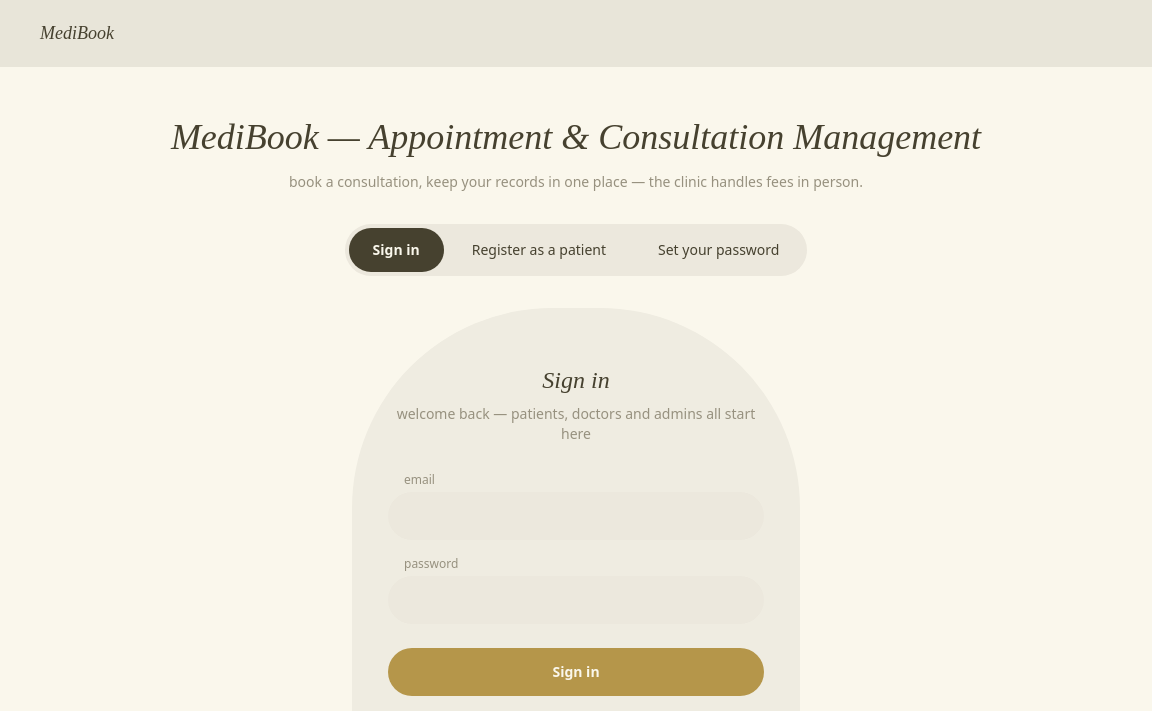
SignIn › [AC-003] client-side validation blocks an empty register submission
Click the tab "Register as a patient". click: (539, 250)
box: [448, 228, 630, 272]
(page scrolled)
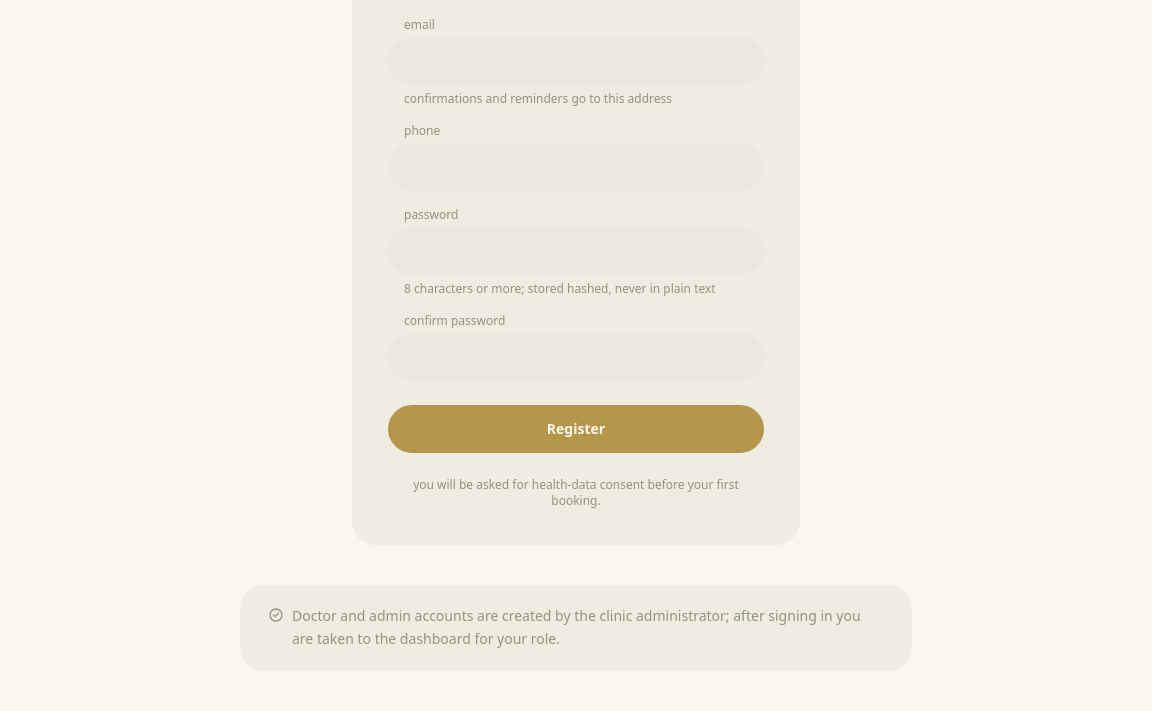
Click the button "Register". click: (576, 429)
box: [388, 405, 764, 453]
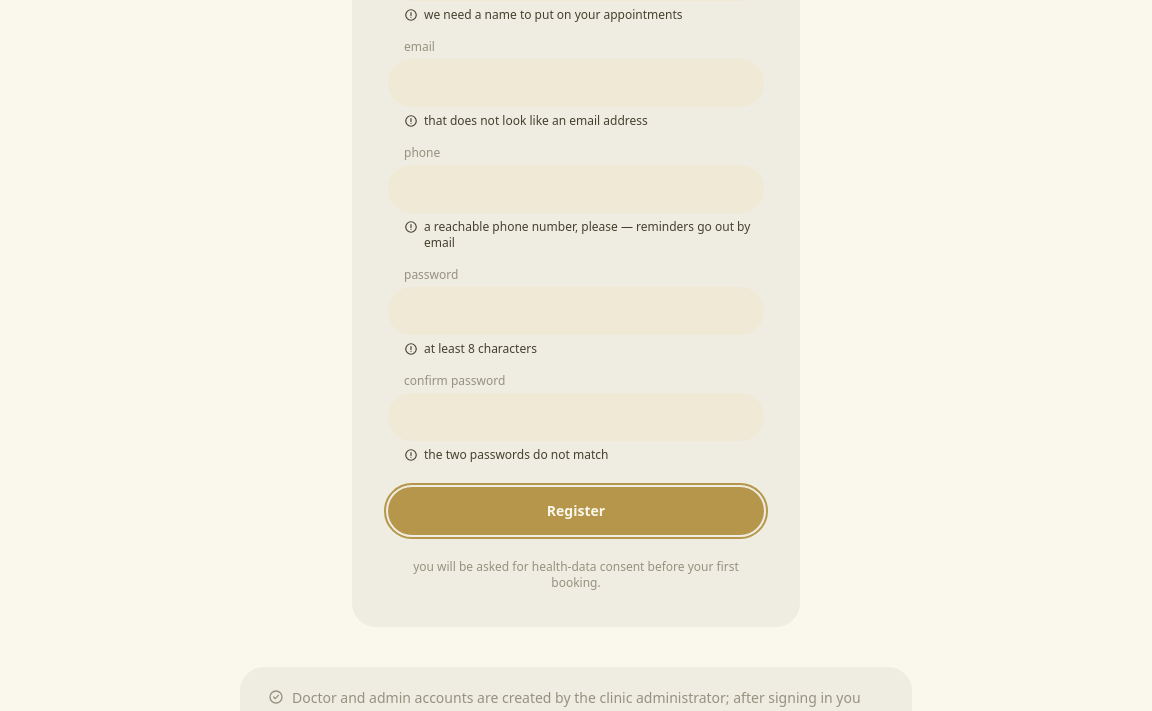
Check: the text "we need a name to put on your appointments" is shown, box [424, 7, 683, 23]
